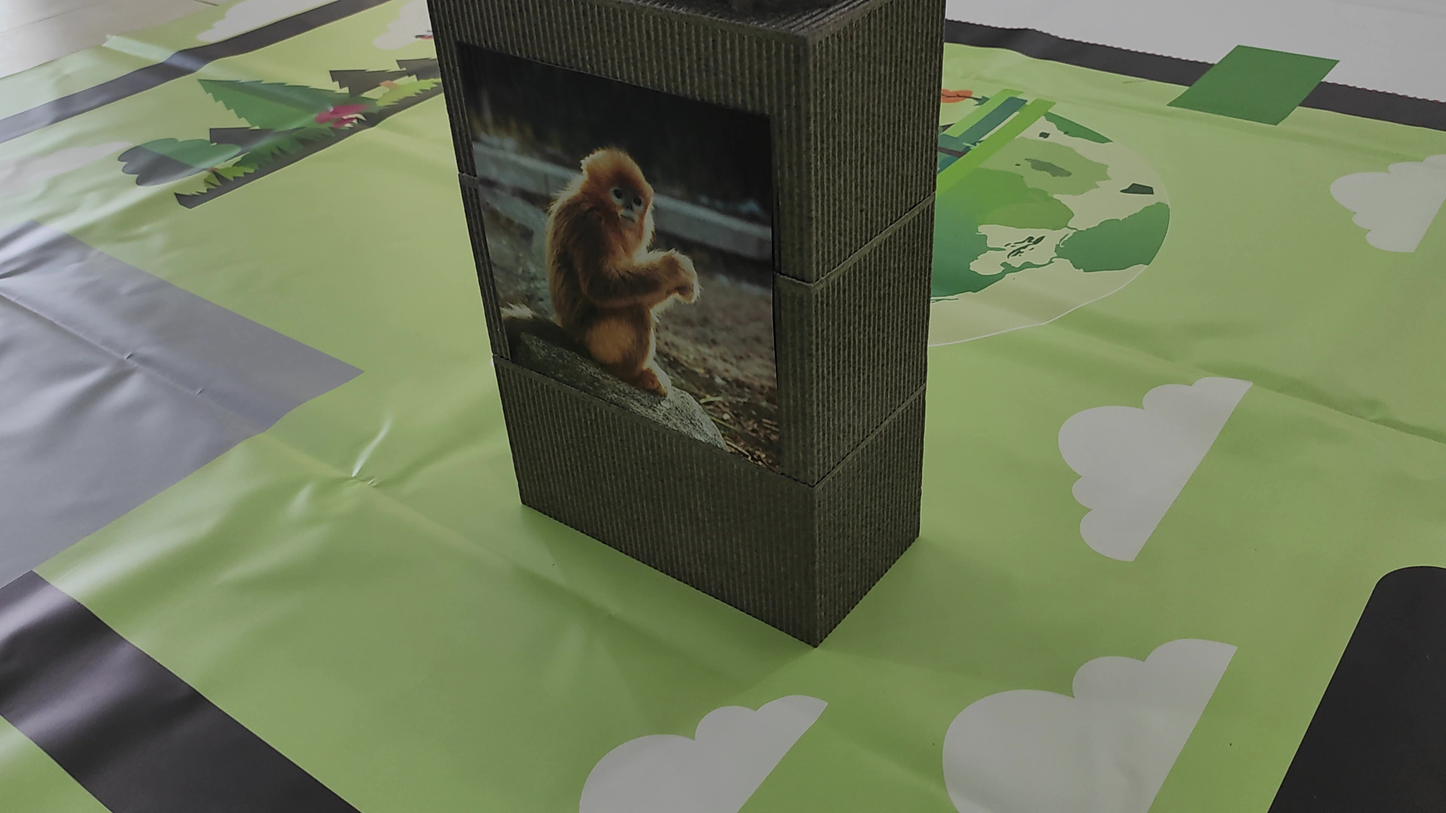monkey: (526, 134, 741, 431)
